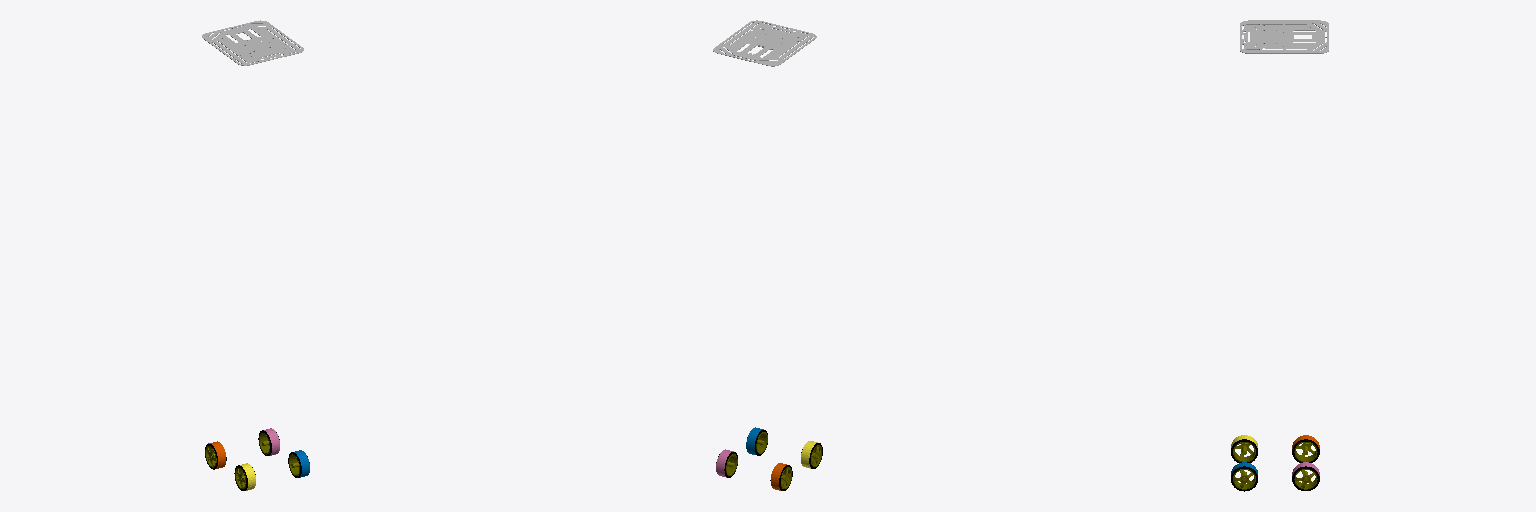
URDF robot description (jetduinobot):
<?xml version="1.0" ?>
<!-- =================================================================================== -->
<!-- |    This document was autogenerated by xacro from jetduinobot.urdf.xacro         | -->
<!-- |    EDITING THIS FILE BY HAND IS NOT RECOMMENDED                                 | -->
<!-- =================================================================================== -->
<!--
  The complete jetduinobot library of xacros for easy reference
 -->
<robot name="jetduinobot" xmlns:xacro="http://ros.org/wiki/xacro">
  <!-- General -->
  <!-- 
    These properties must be observed by any machine
    that wants to be defined as a jetduinobot. Refer
    to the REP for more details.
    
    http://www.ros.org/reps/rep-0119.html
   -->
  <!-- Bases -->
  <link name="world_link"/>
  <link name="base_link">
    <visual>
      <geometry>
        <mesh filename="package://jetduinobot_description/meshes/chassis.dae" scale="0.1 0.1 0.1"/>
      </geometry>
      <origin rpy="0 0 0" xyz="0 -0.0075 -0.029"/>
      <material name="silver">
        <color rgba="0.75 0.75 0.75 1"/>
      </material>
    </visual>
    <collision>
      <geometry>
        <box size="0.185 0.225 0.058"/>
      </geometry>
    </collision>
    <inertial>
      <mass value="0.5"/>
      <inertia ixx="0.015" ixy="0" ixz="0" iyy="0.0375" iyz="0" izz="0.0375"/>
    </inertial>
  </link>
  <joint name="base_joint" type="fixed">
    <parent link="world_link"/>
    <child link="base_link"/>
    <origin rpy="0 0 0" xyz="0 0 0"/>
  </joint>


  <link name="jetson_tk1_link">
    <visual>
      <geometry>
        <mesh filename="package://jetduinobot_description/meshes/top_plate.dae" scale="0.1 0.1 0.1"/>
      </geometry>
      <material name="silver">
        <color rgba="0.75 0.75 0.75 1"/>
      </material>
    </visual>
    <collision>
      <geometry>
        <box size="0.185 0.225 0.058"/>
      </geometry>
    </collision>
    <inertial>
      <mass value="0.5"/>
      <inertia ixx="0.015" ixy="0" ixz="0" iyy="0.0375" iyz="0" izz="0.0375"/>
    </inertial>
  </link>
  <joint name="jetson_tk1_joint" type="fixed">
    <parent link="base_link"/>
    <child link="jetson_tk1_link"/>
    <origin rpy="0 0 0" xyz="0 0 1"/>
  </joint>

  <!-- rear wheels -->
  <!-- right rear wheel -->
  <link name="right_rear_wheel_link">
    <visual>
      <geometry>
        <mesh filename="package://jetduinobot_description/meshes/wheel/wheel.dae" scale="0.1 0.1 0.1"/>
      </geometry>
    </visual>
    <collision>
      <geometry>
        <cylinder length="0.025" radius="0.029"/>
      </geometry>
    </collision>
    <inertial>
      <mass value="0.05"/>
      <inertia ixx="5.1458e-5" ixy="0" ixz="0" iyy="5.1458e-5" iyz="0" izz="6.125e-5"/>
    </inertial>
  </link>
  <joint name="right_rear_wheel_joint" type="continuous">
    <axis xyz="0 0 1"/>
    <parent link="base_link"/>
    <child link="right_rear_wheel_link"/>
    <origin rpy="0 -1.5708 0" xyz="-0.07 -0.0875 -0.017"/>
  </joint>

  <!-- left rear wheel -->
  <link name="left_rear_wheel_link">
    <visual>
      <geometry>
        <mesh filename="package://jetduinobot_description/meshes/wheel/wheel.dae" scale="0.1 0.1 0.1"/>
      </geometry>
      <material name="black"/>
    </visual>
    <collision>
      <geometry>
        <cylinder length="0.025" radius="0.029"/>
      </geometry>
    </collision>
    <inertial>
      <mass value="0.1"/>
      <inertia ixx="5.1458e-5" ixy="0" ixz="0" iyy="5.1458e-5" iyz="0" izz="6.125e-5"/>
    </inertial>
  </link>
  <joint name="left_rear_wheel_joint" type="continuous">
    <axis xyz="0 0 1"/>
    <parent link="base_link"/>
    <child link="left_rear_wheel_link"/>
    <origin rpy="0 1.5708 0" xyz="0.07 -0.0875 -0.017"/>
  </joint>

  <!-- front wheels -->
  <!-- right front wheel -->
  <link name="right_front_wheel_link">
    <visual>
      <geometry>
        <mesh filename="package://jetduinobot_description/meshes/wheel/wheel.dae" scale="0.1 0.1 0.1"/>
      </geometry>
      <material name="black"/>
    </visual>
    <collision>
      <geometry>
        <cylinder length="0.025" radius="0.029"/>
      </geometry>
    </collision>
    <inertial>
      <mass value="0.05"/>
      <inertia ixx="5.1458e-5" ixy="0" ixz="0" iyy="5.1458e-5" iyz="0" izz="6.125e-5"/>
    </inertial>
  </link>
  <joint name="right_front_wheel_joint" type="continuous">
    <axis xyz="0 0 1"/>
    <parent link="base_link"/>
    <child link="right_front_wheel_link"/>
    <origin rpy="0 -1.5708 0" xyz="-0.07 0.0455 -0.017"/>
  </joint>

  <!-- left front wheel -->
  <link name="left_front_wheel_link">
    <visual>
      <geometry>
        <mesh filename="package://jetduinobot_description/meshes/wheel/wheel.dae" scale="0.1 0.1 0.1"/>
      </geometry>
      <material name="black"/>
    </visual>
    <collision>
      <geometry>
        <cylinder length="0.025" radius="0.029"/>
      </geometry>
    </collision>
    <inertial>
      <mass value="0.1"/>
      <inertia ixx="5.1458e-5" ixy="0" ixz="0" iyy="5.1458e-5" iyz="0" izz="6.125e-5"/>
    </inertial>
  </link>
  <joint name="left_front_wheel_joint" type="continuous">
    <axis xyz="0 0 1"/>
    <parent link="base_link"/>
    <child link="left_front_wheel_link"/>
    <origin rpy="0 1.5708 0" xyz="0.07 0.0455 -0.017"/>
  </joint>
  <gazebo>
    <plugin filename="libgazebo_ros_skid_steer_drive.so" name="skid_steer_drive_controller">
      <leftFrontJoint>left_front_wheel_joint</leftFrontJoint>
      <rightFrontJoint>right_front_wheel_joint</rightFrontJoint>
      <leftRearJoint>left_rear_wheel_joint</leftRearJoint>
      <rightRearJoint>right_rear_wheel_joint</rightRearJoint>
      <wheelSeparation>0.148</wheelSeparation>
      <wheelDiameter>0.065</wheelDiameter>
      <robotBaseFrame>base_link</robotBaseFrame>
      <torque>20</torque>
    </plugin>
  </gazebo>


  <!-- Stacks -->
  <!-- 3D Sensors -->
</robot>

--- Facts derived from the render (not from the file) ---
The picture shows the robot from 3 angles, left to right: view 1: azimuth 30°, elevation 25°; view 2: azimuth 150°, elevation 25°; view 3: azimuth 270°, elevation 25°; orthographic projection.
Model jetduinobot with 7 links and 6 joints (4 continuous, 2 fixed), rooted at world_link, posed all joints at 0.
Visible links, largest first — view 1: jetson_tk1_link; view 2: jetson_tk1_link; view 3: jetson_tk1_link, left_rear_wheel_link, left_front_wheel_link, right_rear_wheel_link, right_front_wheel_link.
Link boxes in pixels (x1,y1,x2,y2): jetson_tk1_link: (202,20,303,65); jetson_tk1_link: (713,20,816,66); jetson_tk1_link: (1240,20,1328,53); left_rear_wheel_link: (1231,462,1257,491); left_front_wheel_link: (1292,462,1319,490); right_rear_wheel_link: (1231,435,1257,462); right_front_wheel_link: (1292,435,1319,462).
Bounding box of the posed robot: 0.1687 × 0.2135 × 1.05 m (x, y, z).
5 mesh visuals loaded from 3 distinct referenced files (2 Collada DAE); not drawn: 1 (file found but could not be loaded).
